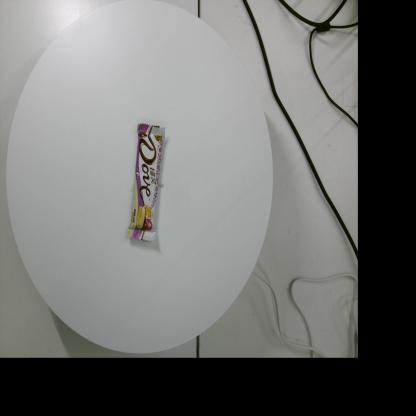Chocolate: (127, 123, 165, 242)
